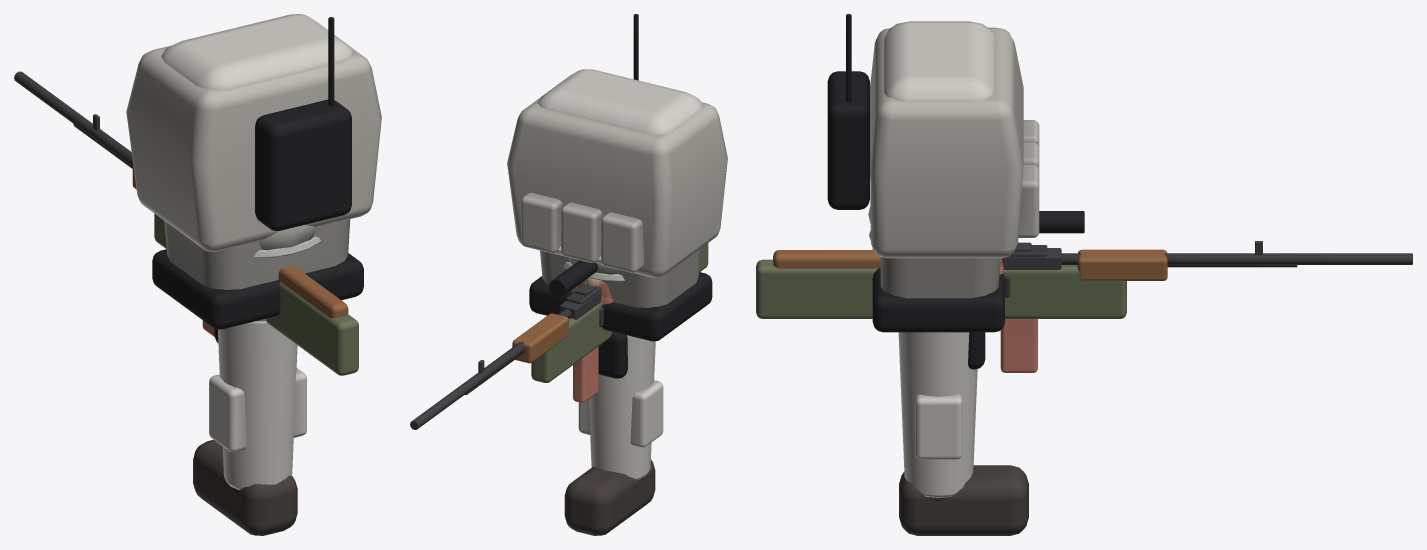
File: leddeloes.glb
3 views of the same model, side by side, from view 1: azimuth 30°, elevation 25°; view 2: azimuth 150°, elevation 25°; view 3: azimuth 270°, elevation 25° (orthographic). The views are drawn at different scales.
Visible parts, largest first — view 1: krop, lårL, snig, skinnebenL, gevær, hjelm, lårR; view 2: krop, lårL, skinnebenL, snig, gevær, hjelm, lårR; view 3: krop, snig, lårL, gevær, skinnebenL, lårR.
Part boxes in pixels (<box>): krop: <box>126,14,381,329</box>; lårL: <box>209,321,297,490</box>; snig: <box>14,71,358,375</box>; skinnebenL: <box>193,328,297,535</box>; gevær: <box>73,114,348,336</box>; hjelm: <box>254,225,320,258</box>; lårR: <box>293,368,306,437</box>; krop: <box>507,14,727,341</box>; lårL: <box>589,335,663,480</box>; skinnebenL: <box>564,332,655,535</box>; snig: <box>410,243,708,429</box>; gevær: <box>465,291,601,402</box>; hjelm: <box>563,257,624,281</box>; lårR: <box>578,399,590,435</box>; krop: <box>827,14,1039,332</box>; snig: <box>756,211,1412,318</box>; lårL: <box>898,332,977,497</box>; gevær: <box>773,241,1297,372</box>; skinnebenL: <box>899,332,1028,535</box>; lårR: <box>915,394,962,459</box>.
Size of the model in its own units: 0.41 by 1.1 by 1.24.
